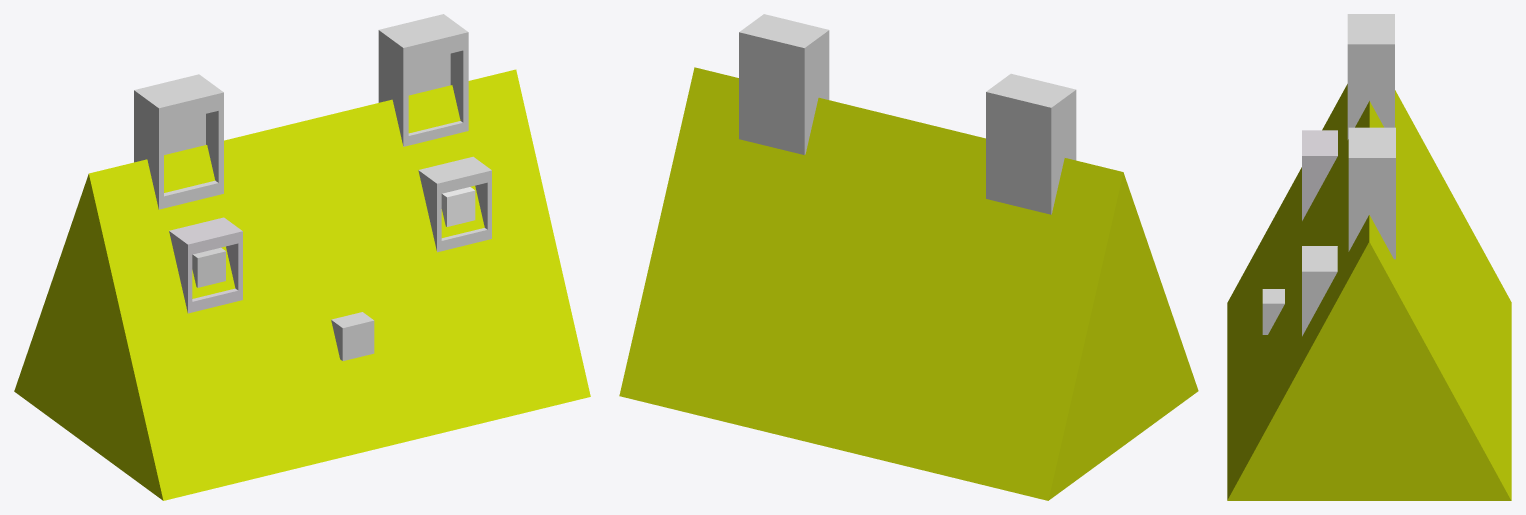
The model's file is Prism Monster.glb.
3 views of the same model, side by side, from view 1: azimuth 30°, elevation 25°; view 2: azimuth 150°, elevation 25°; view 3: azimuth 270°, elevation 25° (orthographic). The views are drawn at different scales.
Visible parts, largest first — view 1: Cylinder.001, Cube.001_0.001, Cube.002_1.001, Cube.003_2.001, Cube.005_4.001, Cube.007_6.001, Cube.006_5.001, Cube.004_3.001; view 2: Cylinder.001, Cube.002_1.001, Cube.001_0.001; view 3: Cylinder.001, Cube.002_1.001, Cube.001_0.001, Cube.003_2.001, Cube.005_4.001, Cube.007_6.001.
Boxes of the visible parts, x1=… form: Cylinder.001: x1=14, y1=69, x2=590, y2=500; Cube.001_0.001: x1=134, y1=74, x2=223, y2=209; Cube.002_1.001: x1=378, y1=14, x2=468, y2=146; Cube.003_2.001: x1=169, y1=217, x2=242, y2=313; Cube.005_4.001: x1=418, y1=156, x2=491, y2=252; Cube.007_6.001: x1=331, y1=312, x2=374, y2=360; Cube.006_5.001: x1=441, y1=187, x2=475, y2=226; Cube.004_3.001: x1=192, y1=247, x2=225, y2=287; Cylinder.001: x1=619, y1=67, x2=1198, y2=500; Cube.002_1.001: x1=739, y1=14, x2=829, y2=154; Cube.001_0.001: x1=986, y1=73, x2=1076, y2=214; Cylinder.001: x1=1227, y1=84, x2=1511, y2=500; Cube.002_1.001: x1=1348, y1=127, x2=1395, y2=259; Cube.001_0.001: x1=1347, y1=14, x2=1394, y2=139; Cube.003_2.001: x1=1302, y1=130, x2=1337, y2=220; Cube.005_4.001: x1=1302, y1=246, x2=1337, y2=336; Cube.007_6.001: x1=1262, y1=289, x2=1284, y2=334.
Bounding box in the file's own units: 7.7 × 5.72 × 4.67.
